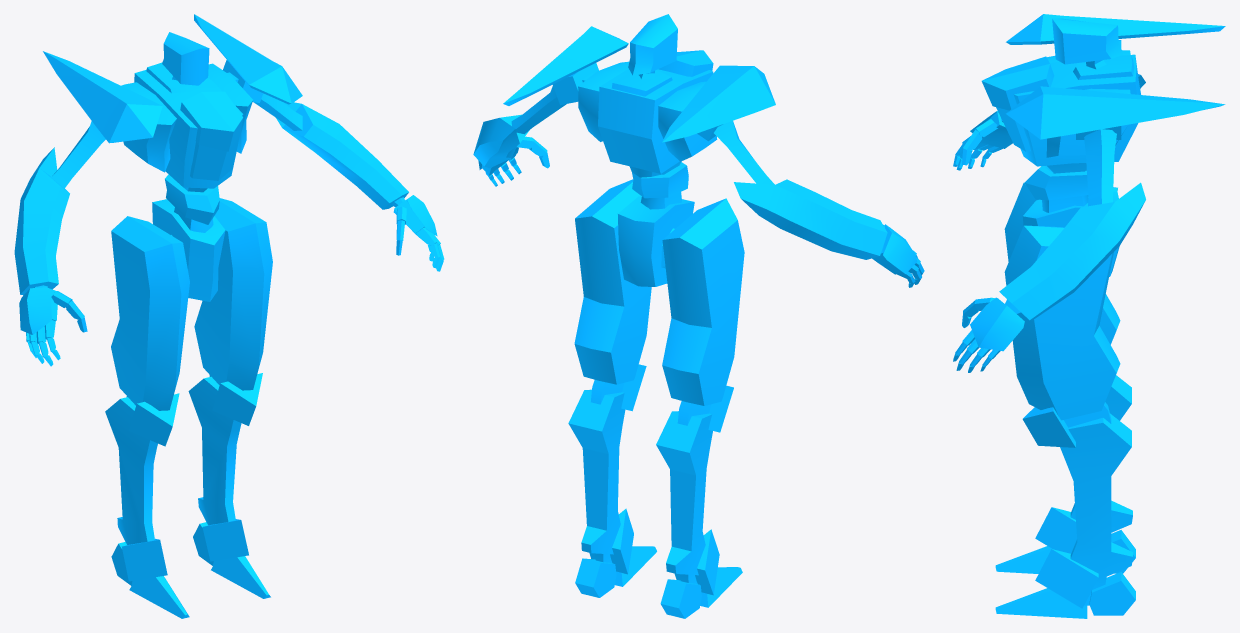
Rendered from Seraph_TP.fbx.
3 renders of one model, left to right at view 1: azimuth 30°, elevation 25°; view 2: azimuth 150°, elevation 25°; view 3: azimuth 270°, elevation 25°, orthographic. The views are drawn at different scales.
Visible parts, largest first — view 1: Cube.001; view 2: Cube.001; view 3: Cube.001.
Part boxes in pixels (x1,y1,x2,y2): Cube.001: (14,14,444,618); Cube.001: (473,14,924,618); Cube.001: (953,14,1225,618).
Bounding box in the file's own units: 956 × 1209 × 522.
